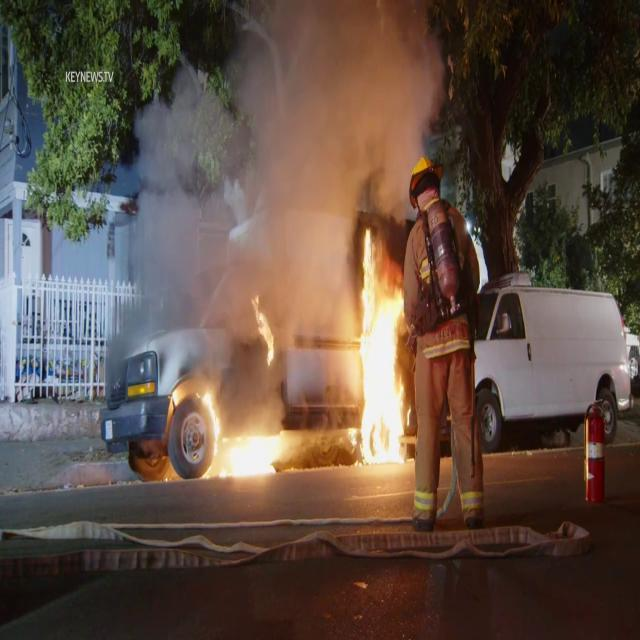Fire: (348, 228, 414, 466), (203, 420, 292, 486)
Smoke: (100, 0, 458, 344)
